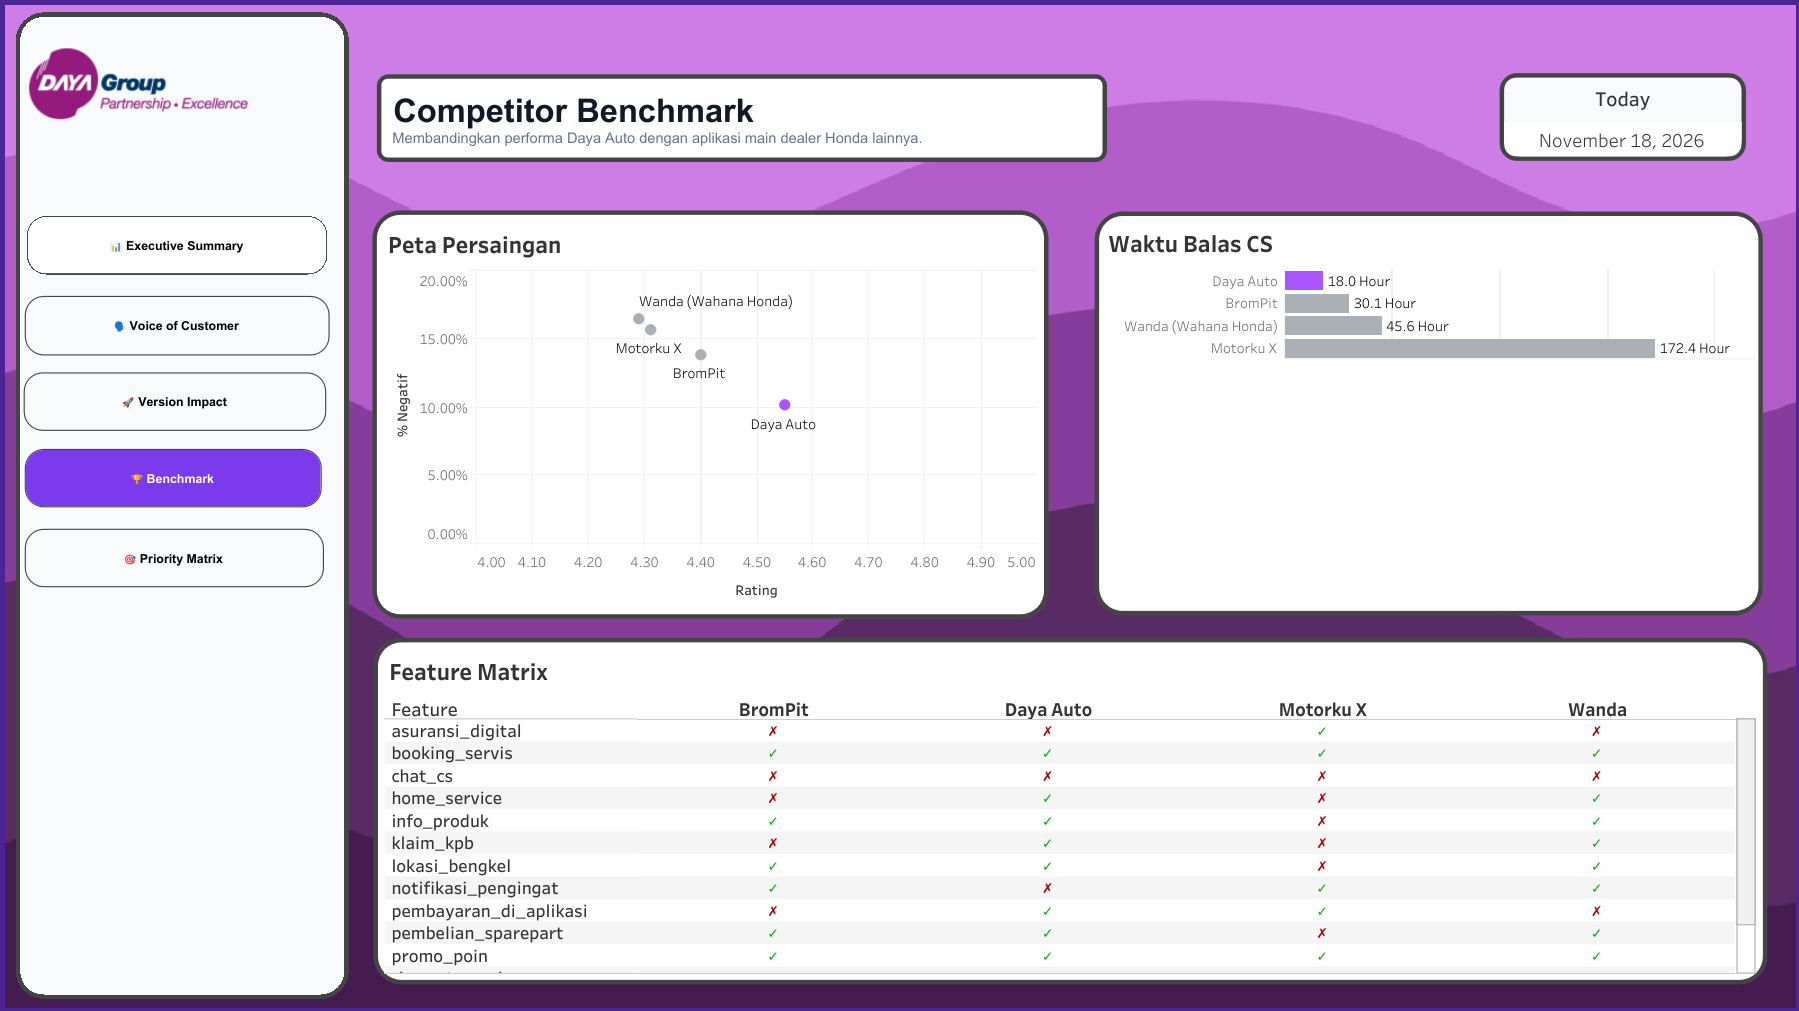

This screenshot's page, from the dashboard's own definition file:
{"tool":"tableau","page":{"name":"Benchmark","canvas":[1600,900],"ordinal":0},"visuals":[{"type":"blank","box":[18.4,15.2,288,868.4]},{"type":"image","param":"C:/Users/hp/Downloads/LOGO-DAYA-GROUP-WEBSITE.png","box":[25.6,42.8,272,63]},{"type":"text","box":[335,66,649,78]},{"type":"worksheet","title":"Today Card","mark":"Automatic","box":[1337,69,211,70]},{"type":"worksheet","title":"Peta Persaingan","mark":"Circle","rows":["pct_negative"],"cols":["avg_rating"],"box":[334,190,595,357]},{"type":"worksheet","title":"Waktu Balas CS","mark":"Bar","rows":["app_name"],"cols":["median_reply_hours"],"box":[976,191,588,323]},{"type":"dashboard-object","box":[24,192.4,267.2,51.7]},{"type":"dashboard-object","box":[22,263,271,53]},{"type":"dashboard-object","box":[20.8,330.8,268.8,51.7]},{"type":"dashboard-object","box":[22.4,399.4,264,51.7]},{"type":"dashboard-object","box":[22.4,470.2,265.6,51.7]},{"type":"worksheet","title":"Feature Matrix","mark":"Automatic","rows":["feature"],"cols":["app_name"],"box":[335,570,1233,302]}]}

Visuals, with their boxes in screenshot pixels (x1, y1, x2, y2), scaled from the page's 1600x900 canvas onto the 1799x1011 screenshot:
blank: detection(21, 17, 345, 993)
image: detection(29, 48, 335, 119)
text: detection(377, 74, 1106, 162)
"Today Card" worksheet: detection(1503, 78, 1741, 156)
"Peta Persaingan" worksheet (Circle marks): detection(376, 213, 1045, 614)
"Waktu Balas CS" worksheet (Bar marks): detection(1097, 215, 1759, 577)
dashboard-object: detection(27, 216, 327, 274)
dashboard-object: detection(25, 295, 329, 355)
dashboard-object: detection(23, 372, 326, 430)
dashboard-object: detection(25, 449, 322, 507)
dashboard-object: detection(25, 528, 324, 586)
"Feature Matrix" worksheet: detection(377, 640, 1763, 980)
